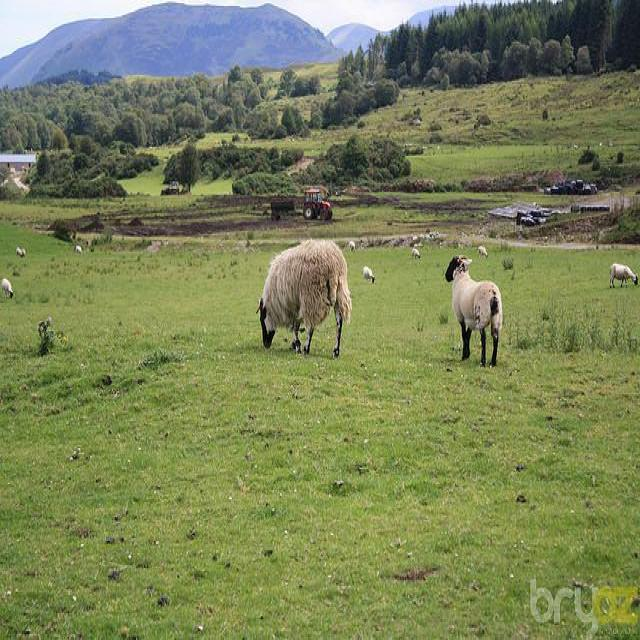Sheep: (256, 238, 353, 358), (444, 255, 503, 367)
